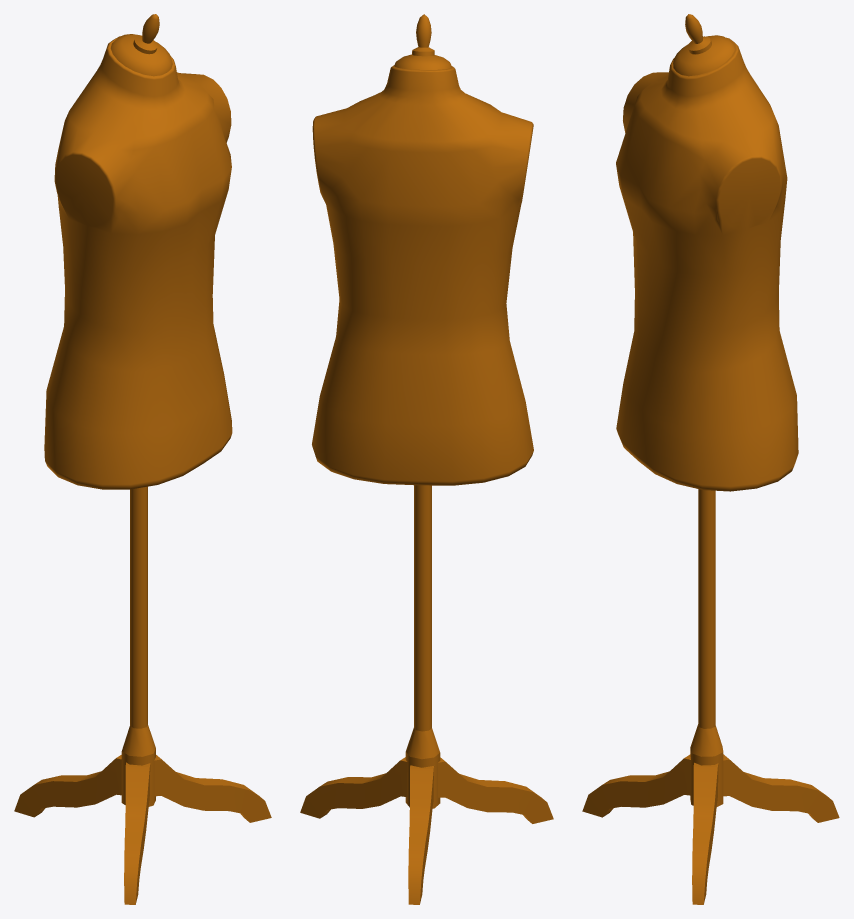
File: Ma-no-canh (0.09, 1.5, 0.3).glb
The picture shows the model from 3 angles, left to right: view 1: azimuth 30°, elevation 25°; view 2: azimuth 150°, elevation 25°; view 3: azimuth 270°, elevation 25°; orthographic projection.
Visible parts, largest first — view 1: Dress.006; view 2: Dress.006; view 3: Dress.006.
Boxes of the visible parts, x1,y1,x2,y2 form: Dress.006: (14, 14, 271, 904); Dress.006: (300, 14, 553, 904); Dress.006: (582, 14, 839, 904).
Bounding box in the file's own units: 0.5122 × 1.85 × 0.5177.
